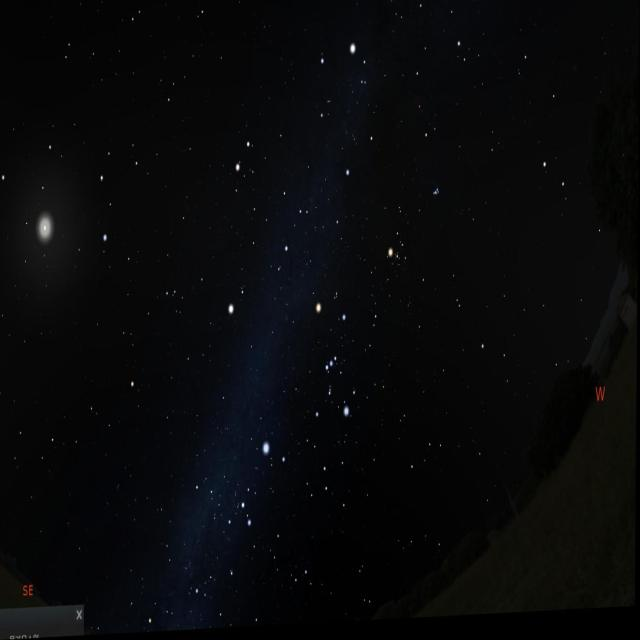canis_major: (240, 434, 292, 536)
canis_minor: (229, 284, 250, 324)
gemini: (236, 134, 314, 272)
leo: (0, 115, 152, 256)
moon: (27, 196, 66, 264)
orion: (304, 290, 356, 438)
pleiades: (427, 182, 444, 208)
taurus: (381, 170, 449, 291)
